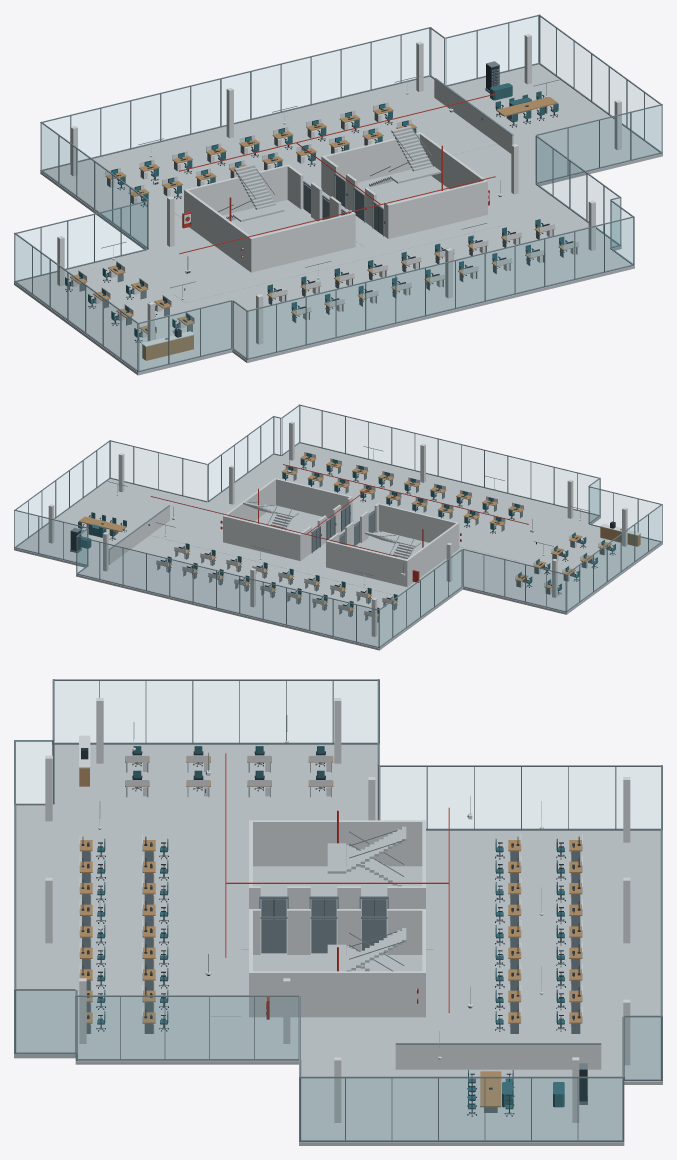
3 renders of one model, top to bottom at view 1: azimuth 30°, elevation 25°; view 2: azimuth 150°, elevation 25°; view 3: azimuth 270°, elevation 25°, orthographic. The views are drawn at different scales.
Visible parts, largest first — view 1: T1_F10_SLAB, T1_F10_WHITE, T1_F10_GLASS_S, T1_F10_GLASS_N, T1_F10_STEEL, T1_F10_GLASS_W, T1_F10_GLASS_E, T1_F10_WOOD, T1_F10_FABRIC, T1_F10_DARK, T1_F10_RED, T1_F10_SCREEN; view 2: T1_F10_SLAB, T1_F10_WHITE, T1_F10_GLASS_N, T1_F10_STEEL, T1_F10_GLASS_S, T1_F10_GLASS_W, T1_F10_GLASS_E, T1_F10_WOOD, T1_F10_FABRIC, T1_F10_DARK, T1_F10_RED; view 3: T1_F10_SLAB, T1_F10_WHITE, T1_F10_GLASS_E, T1_F10_GLASS_W, T1_F10_STEEL, T1_F10_WOOD, T1_F10_DARK, T1_F10_FABRIC, T1_F10_RED.
Boxes of the visible parts, bbox=[...] form: T1_F10_SLAB: bbox=[14, 64, 662, 375]; T1_F10_WHITE: bbox=[57, 34, 621, 346]; T1_F10_GLASS_S: bbox=[140, 106, 660, 370]; T1_F10_GLASS_N: bbox=[19, 17, 538, 267]; T1_F10_STEEL: bbox=[14, 14, 662, 372]; T1_F10_GLASS_W: bbox=[15, 125, 245, 369]; T1_F10_GLASS_E: bbox=[431, 18, 657, 243]; T1_F10_WOOD: bbox=[70, 97, 578, 360]; T1_F10_FABRIC: bbox=[65, 83, 565, 337]; T1_F10_DARK: bbox=[65, 64, 573, 342]; T1_F10_RED: bbox=[179, 93, 496, 258]; T1_F10_SCREEN: bbox=[79, 75, 501, 319]; T1_F10_SLAB: bbox=[14, 443, 662, 650]; T1_F10_WHITE: bbox=[48, 421, 641, 636]; T1_F10_GLASS_N: bbox=[15, 512, 564, 646]; T1_F10_STEEL: bbox=[14, 404, 662, 648]; T1_F10_GLASS_S: bbox=[110, 406, 657, 527]; T1_F10_GLASS_W: bbox=[380, 480, 661, 645]; T1_F10_GLASS_E: bbox=[18, 408, 298, 536]; T1_F10_WOOD: bbox=[78, 455, 640, 616]; T1_F10_FABRIC: bbox=[78, 459, 615, 613]; T1_F10_DARK: bbox=[70, 453, 615, 613]; T1_F10_RED: bbox=[150, 464, 528, 582]; T1_F10_SLAB: bbox=[14, 744, 662, 1145]; T1_F10_WHITE: bbox=[45, 698, 630, 1122]; T1_F10_GLASS_E: bbox=[16, 991, 660, 1139]; T1_F10_GLASS_W: bbox=[16, 681, 660, 828]; T1_F10_STEEL: bbox=[14, 679, 662, 1141]; T1_F10_WOOD: bbox=[79, 756, 582, 1107]; T1_F10_DARK: bbox=[81, 748, 587, 1116]; T1_F10_FABRIC: bbox=[97, 746, 564, 1109]; T1_F10_RED: bbox=[225, 753, 449, 1019].
Size of the model in its own units: 55.47 by 4.5 by 38.19.
